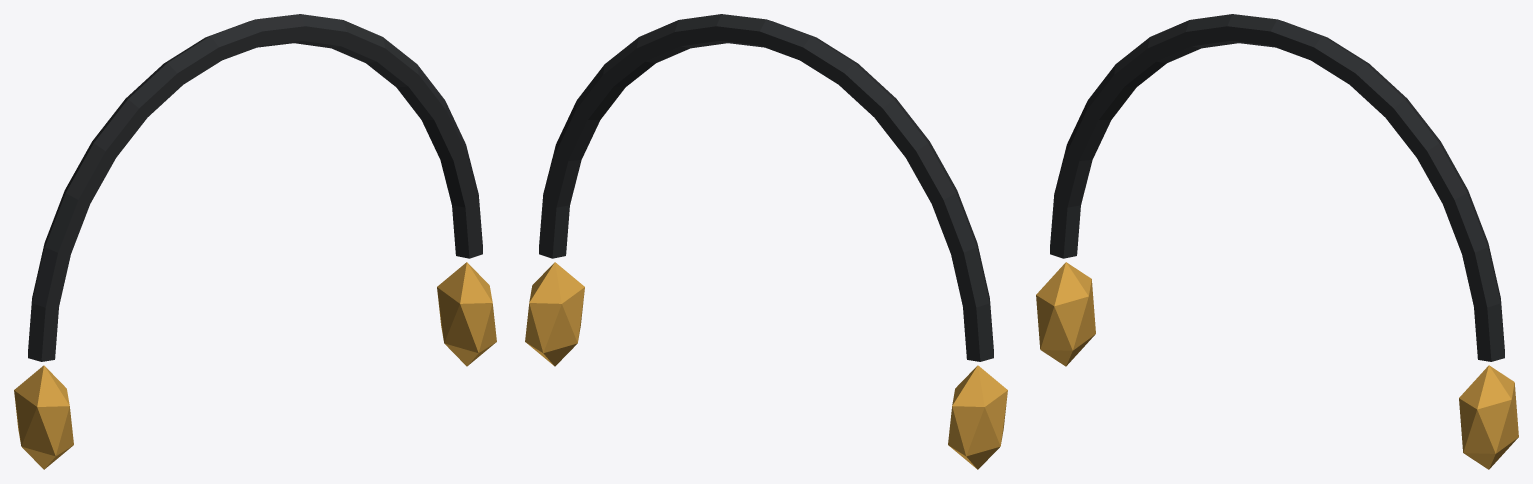
The model's file is acc-headphones.glb.
The picture shows the model from 3 angles, left to right: view 1: azimuth 30°, elevation 25°; view 2: azimuth 150°, elevation 25°; view 3: azimuth 330°, elevation 25°; orthographic projection.
Visible parts, largest first — view 1: acc-headphones_ref2_acc-headphones__head_mesh; view 2: acc-headphones_ref2_acc-headphones__head_mesh; view 3: acc-headphones_ref2_acc-headphones__head_mesh.
Boxes of the visible parts, bbox=[...] form: acc-headphones_ref2_acc-headphones__head_mesh: bbox=[14, 14, 496, 469]; acc-headphones_ref2_acc-headphones__head_mesh: bbox=[525, 14, 1007, 469]; acc-headphones_ref2_acc-headphones__head_mesh: bbox=[1036, 14, 1518, 469].
Bounding box in the file's own units: 0.5517 × 0.449 × 0.0766.
